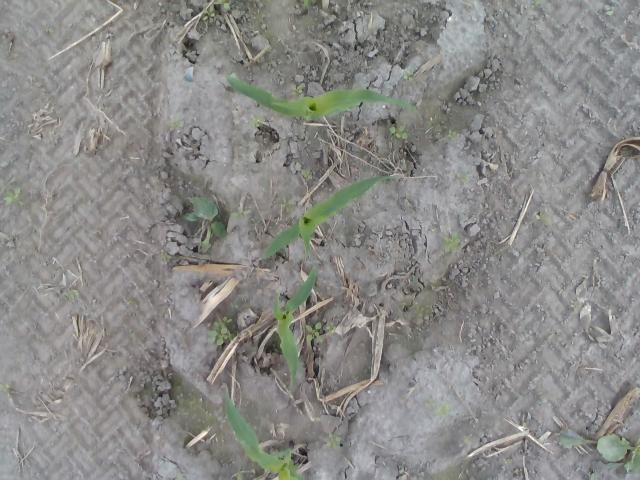Maize: (262, 174, 398, 258), (224, 74, 423, 120), (224, 391, 308, 478), (276, 266, 318, 389)
Weeds: (558, 433, 640, 478), (185, 196, 227, 253), (208, 316, 234, 346), (424, 397, 454, 417), (0, 177, 22, 204), (304, 320, 324, 346), (442, 232, 462, 254), (325, 432, 343, 450), (230, 206, 252, 220), (389, 125, 408, 139), (60, 289, 80, 301), (280, 198, 296, 212), (534, 212, 552, 224), (166, 115, 182, 127), (202, 9, 216, 22), (325, 322, 337, 334), (213, 0, 230, 8), (290, 83, 303, 93), (251, 116, 265, 125), (302, 0, 316, 9), (458, 172, 468, 184), (300, 170, 312, 180), (447, 129, 457, 139), (0, 383, 11, 392), (160, 252, 172, 260), (402, 71, 412, 80), (462, 433, 472, 442), (44, 27, 55, 34)
